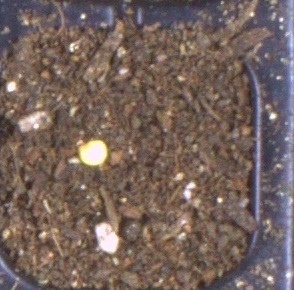chilli seed: (77, 139, 107, 166)
